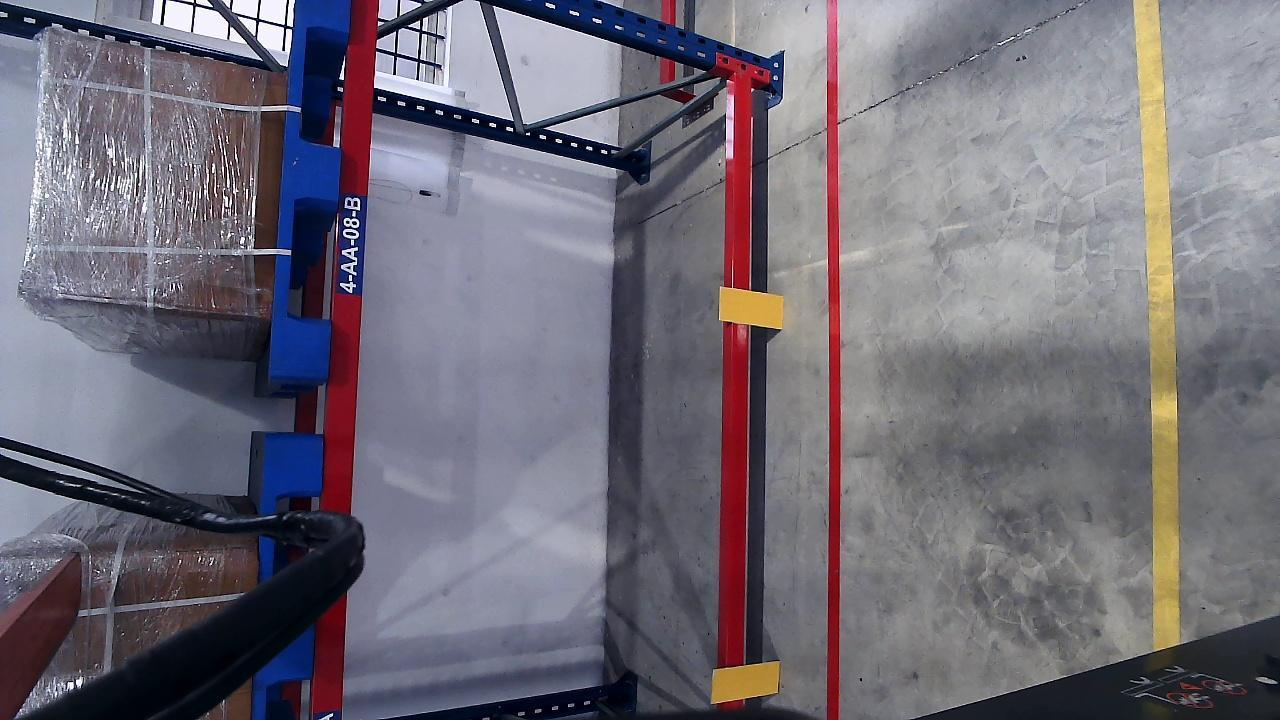red_line: (824, 0, 844, 702)
yellow_line: (1135, 0, 1182, 635)
